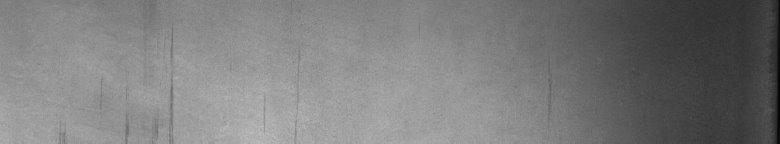ka: (124, 32, 176, 136)
